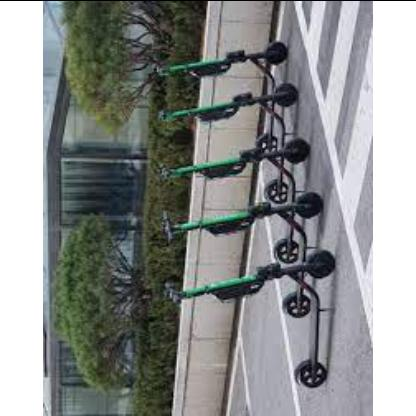bike: (160, 48, 337, 398)
